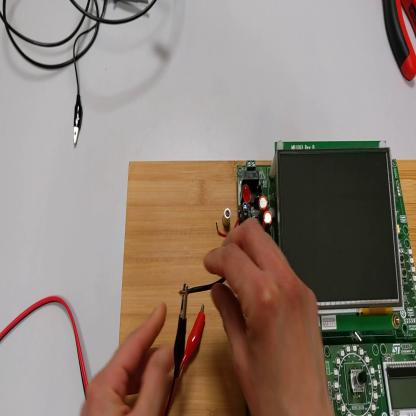hand: (206, 217, 334, 414), (81, 300, 175, 415)
low voltage board: (179, 140, 416, 416)
oscilloscope probe tip: (113, 1, 152, 13)
pliers: (383, 2, 416, 83)
working area: (118, 159, 415, 415)
